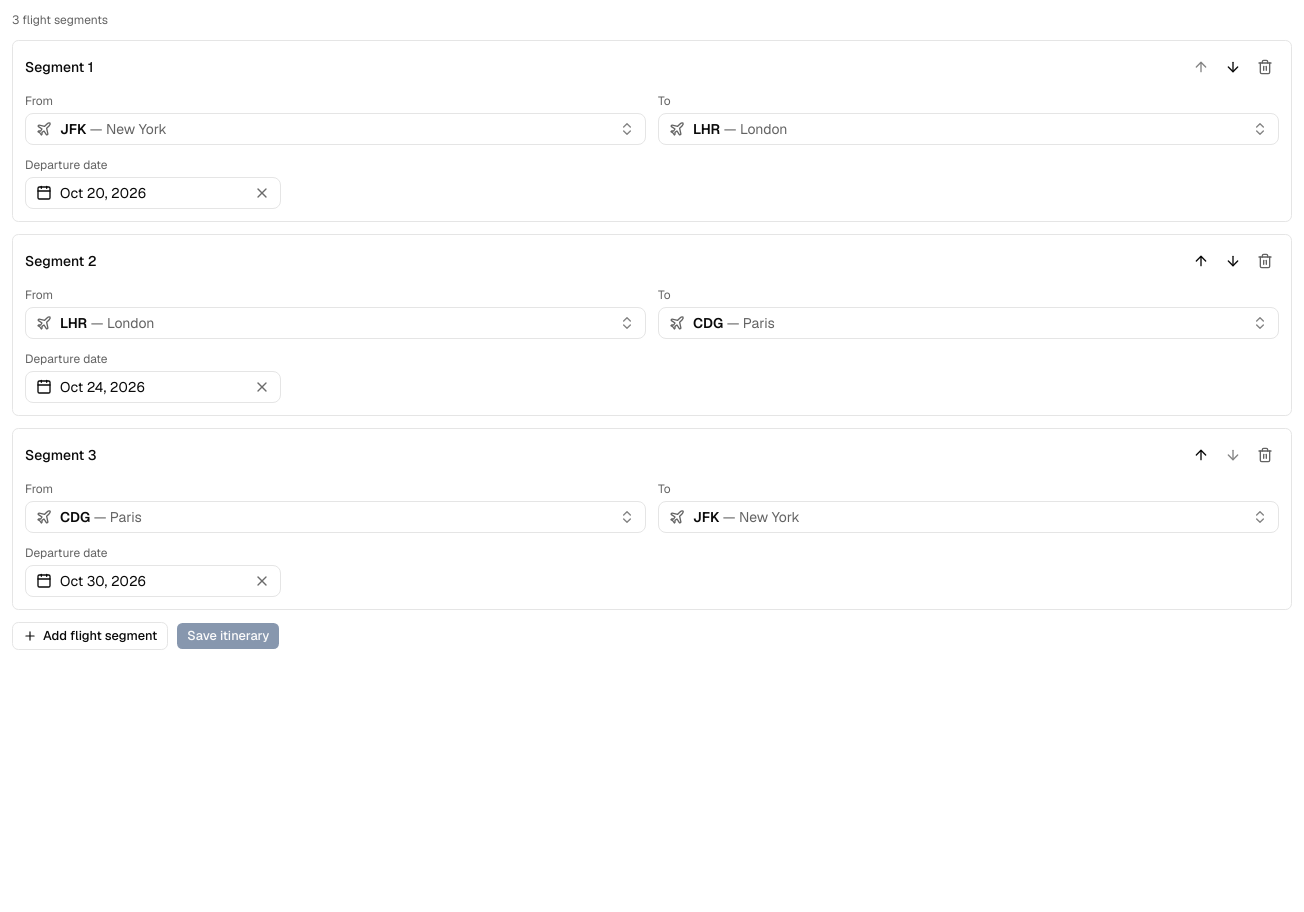
Test case: LeadSegmentsEditor › 'Add flight segment' appends a leg that starts where the previous one ended
Click the button "Add flight segment": point(90, 636) [12,622,168,650]
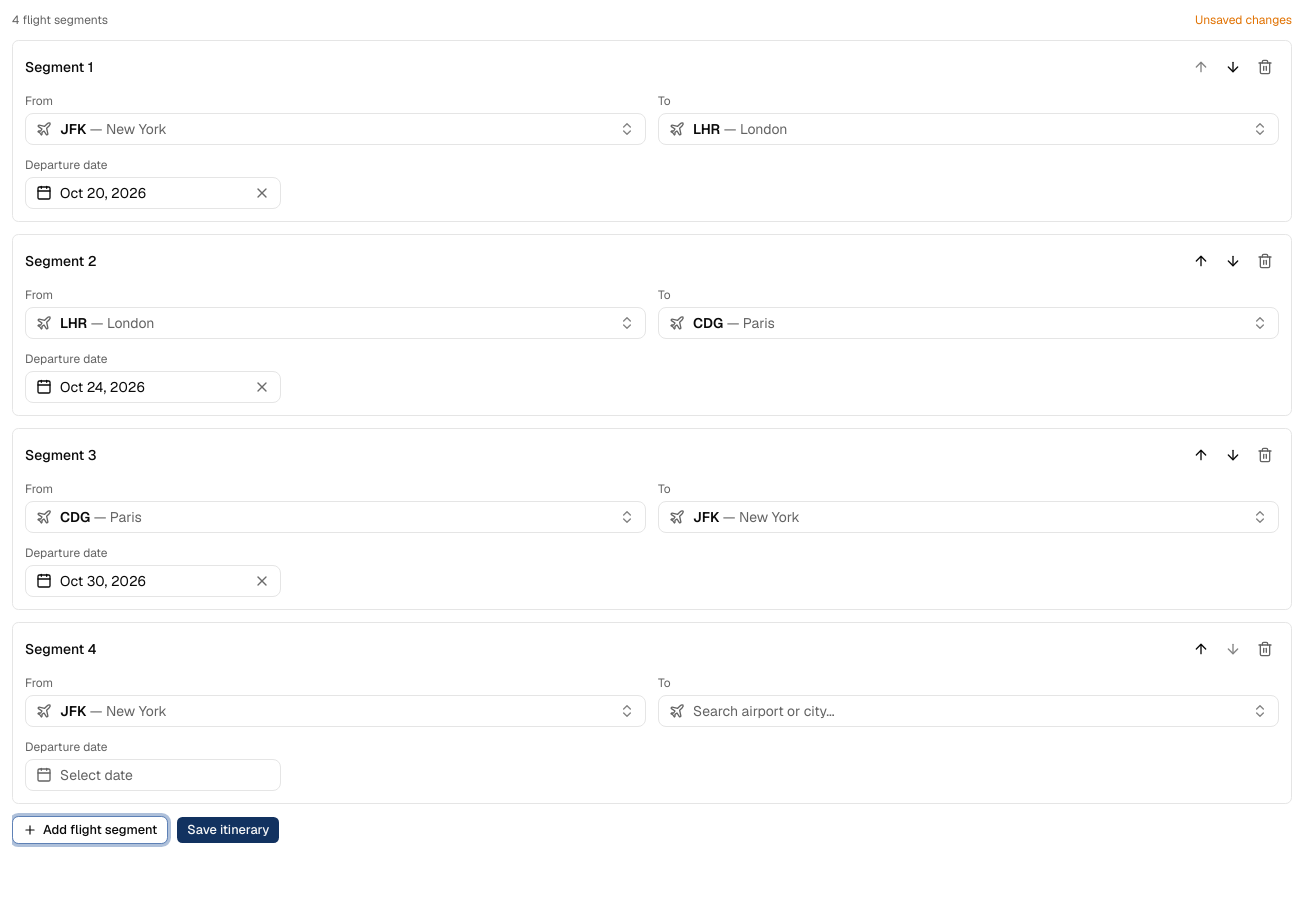
Expected: the number of list items "Segment 1" is 4, [12,40,1292,222]; [12,234,1292,416]; [12,428,1292,610]; [12,622,1292,804]
Expected: the dropdown named "Segment 4 from" shows "JFK", [25,695,646,727]
Expected: the text "Unsaved changes" is shown, [1195,12,1292,28]
